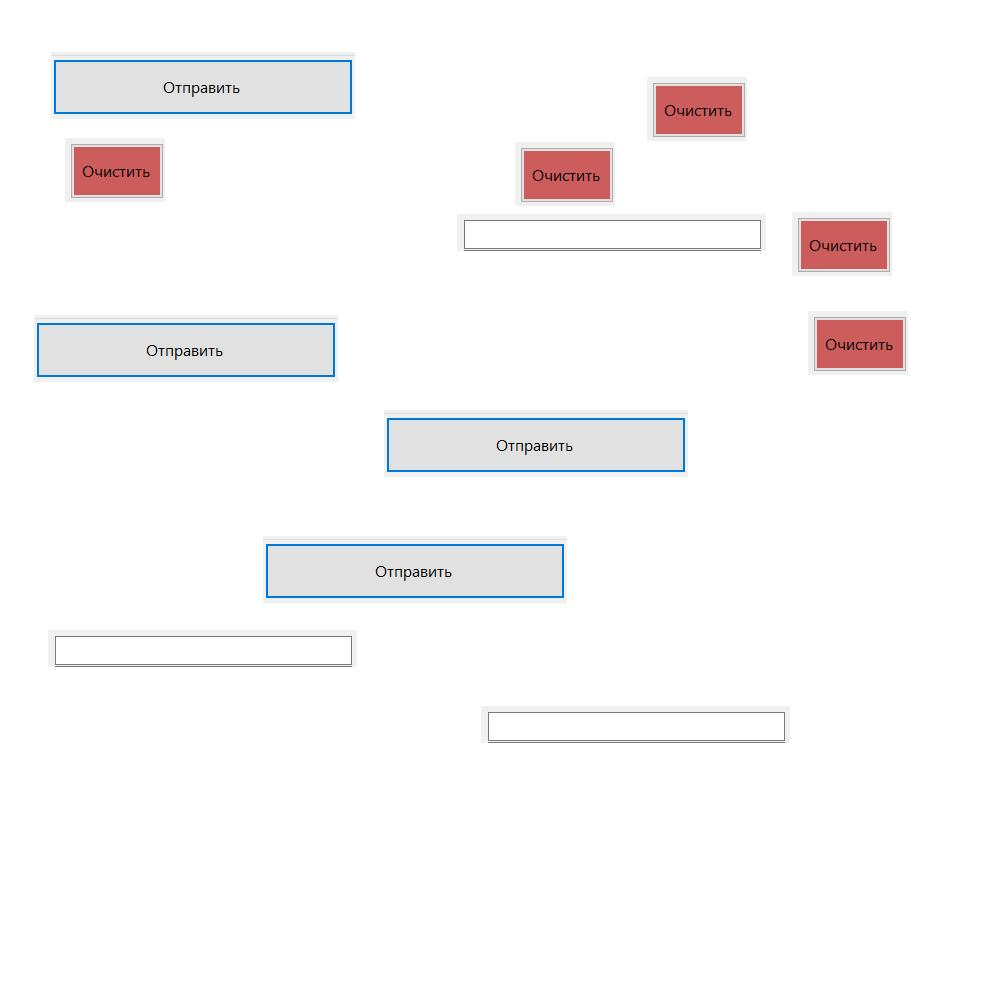Button: (51, 52, 355, 119), (263, 536, 567, 603), (384, 410, 688, 477), (34, 315, 338, 382), (792, 212, 892, 276), (647, 77, 747, 141), (808, 311, 908, 375), (515, 142, 615, 206), (65, 138, 165, 202)
EditText-: (481, 706, 790, 743), (457, 214, 766, 251), (48, 630, 357, 667)
